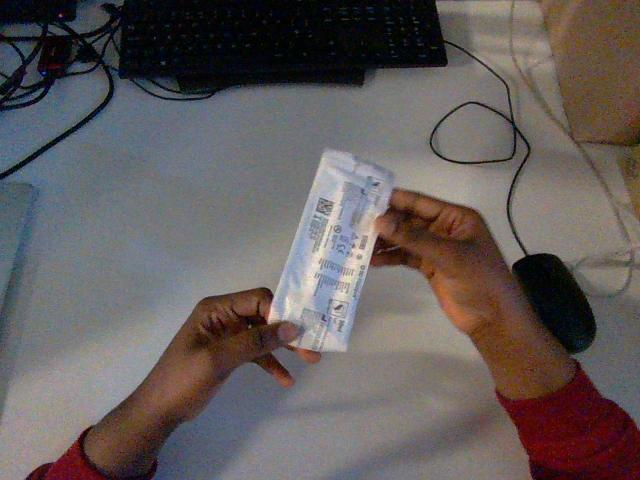syringe: (269, 149, 393, 351)
